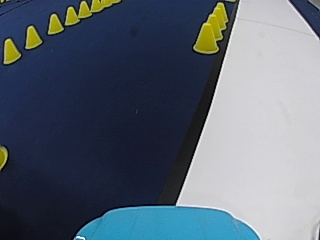cone: (192, 20, 218, 54), (204, 14, 223, 40), (2, 37, 20, 63), (211, 2, 228, 28), (24, 24, 42, 48), (46, 12, 63, 34), (64, 6, 79, 25), (77, 0, 91, 18), (0, 145, 8, 170), (91, 0, 101, 11)
